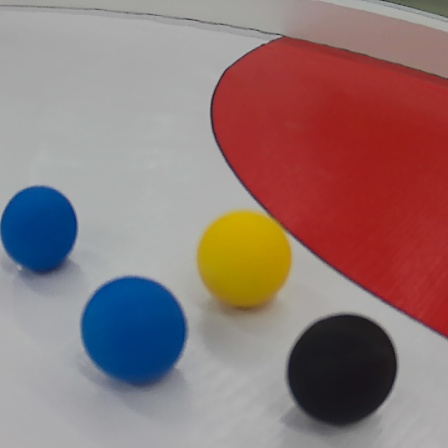black: (287, 313, 397, 427)
blue: (81, 272, 188, 382), (0, 185, 79, 271)
red_base: (211, 17, 448, 344)
yellow: (196, 212, 292, 311)
